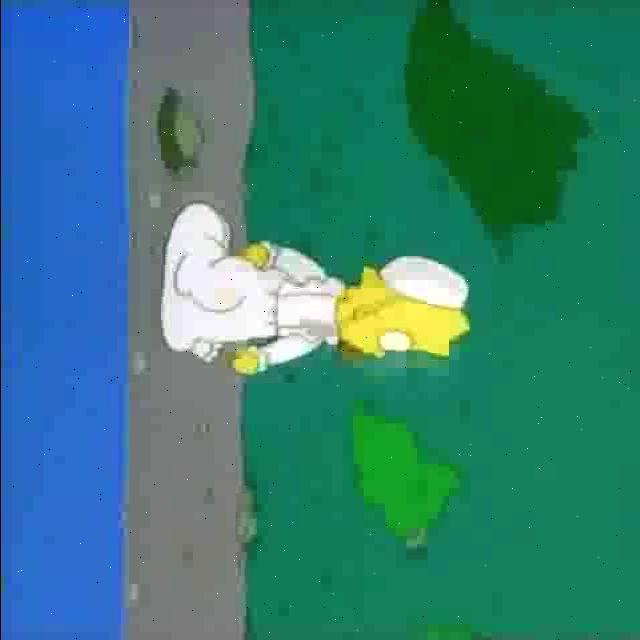Maggie Simpson: (333, 258, 475, 366)
